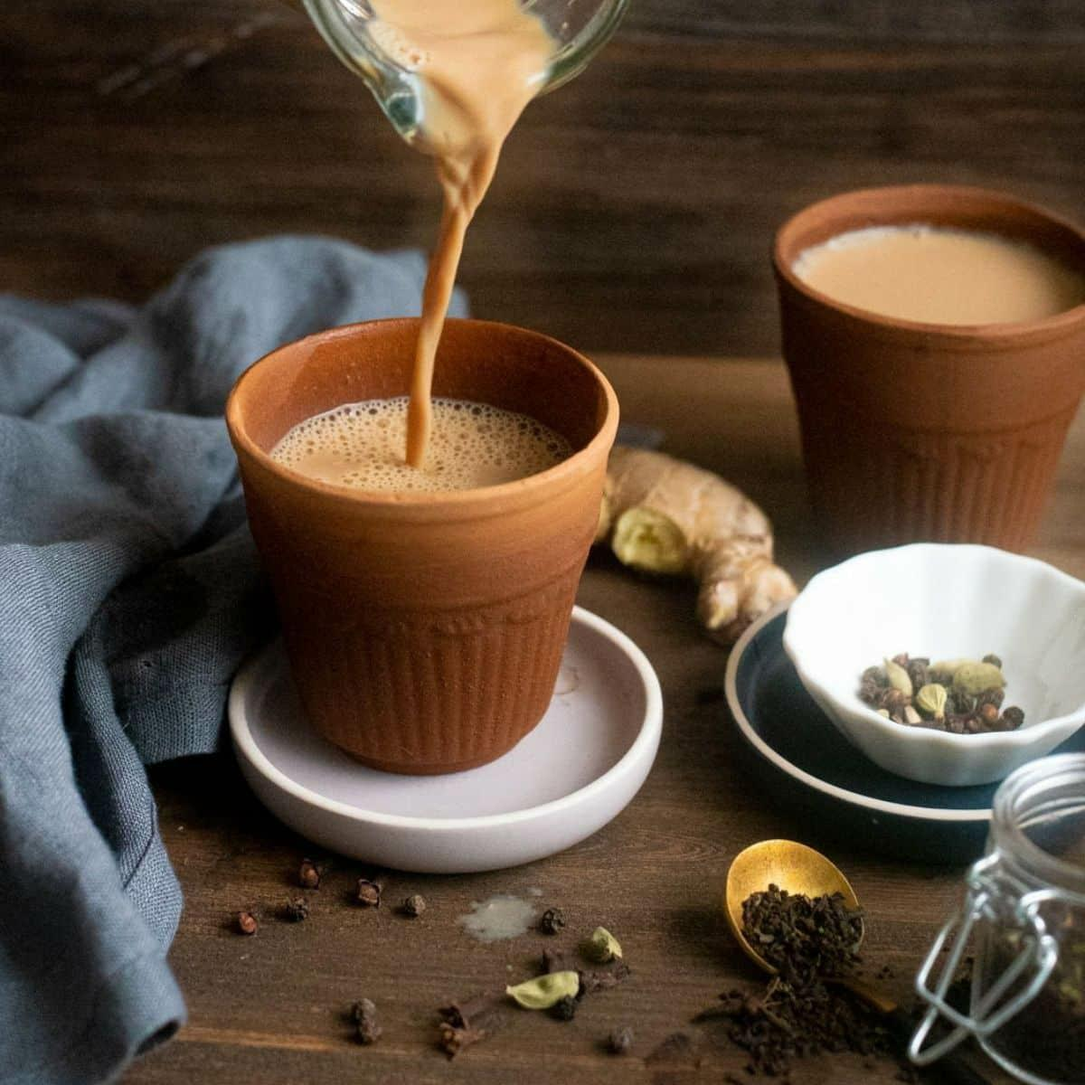Chai: (351, 0, 558, 455), (800, 219, 1085, 326), (266, 396, 574, 493)
